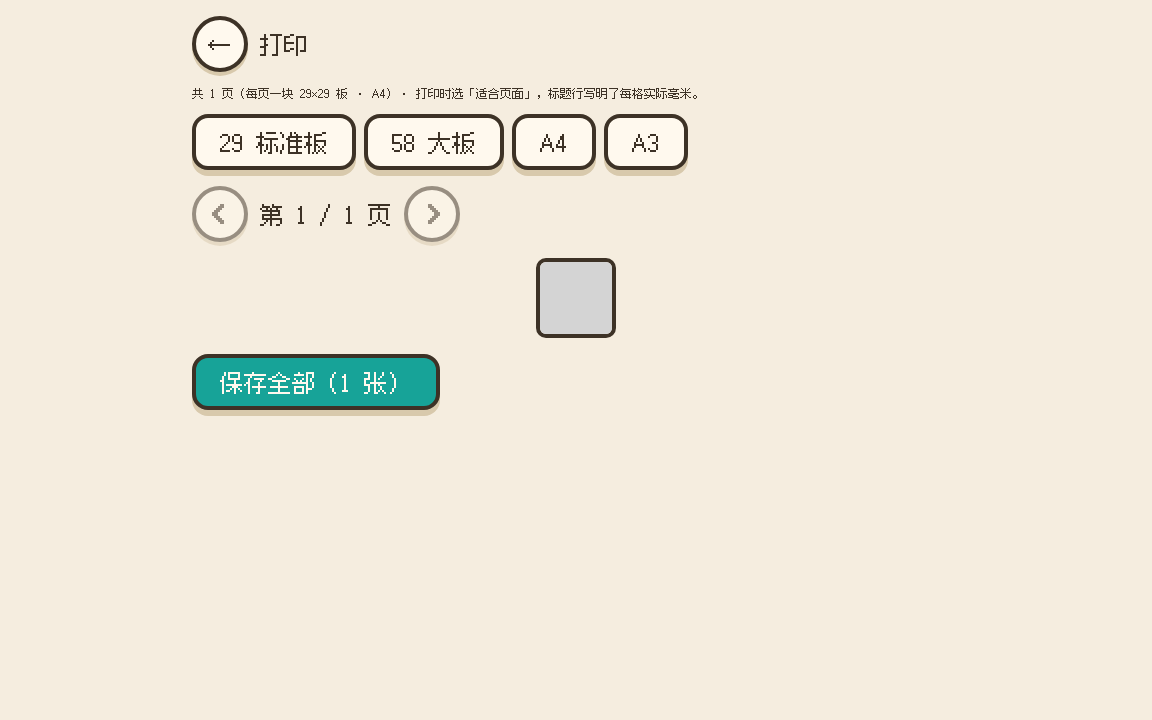
Test: 保存经能力层落盘（规格 §5.4.3 / §9.2-2 —— G4 闸门的行为面） › 平台保存失败：如实报第几张失败与中文原因，不静默、也不产生预览 URL
// 挂载期只有预览会建 URL；保存失败**不许**再建（一份没落盘的字节不该有 object URL）
Step 1. Click the button with test id "print-save-all" → (316, 382), box [192,354,440,410]
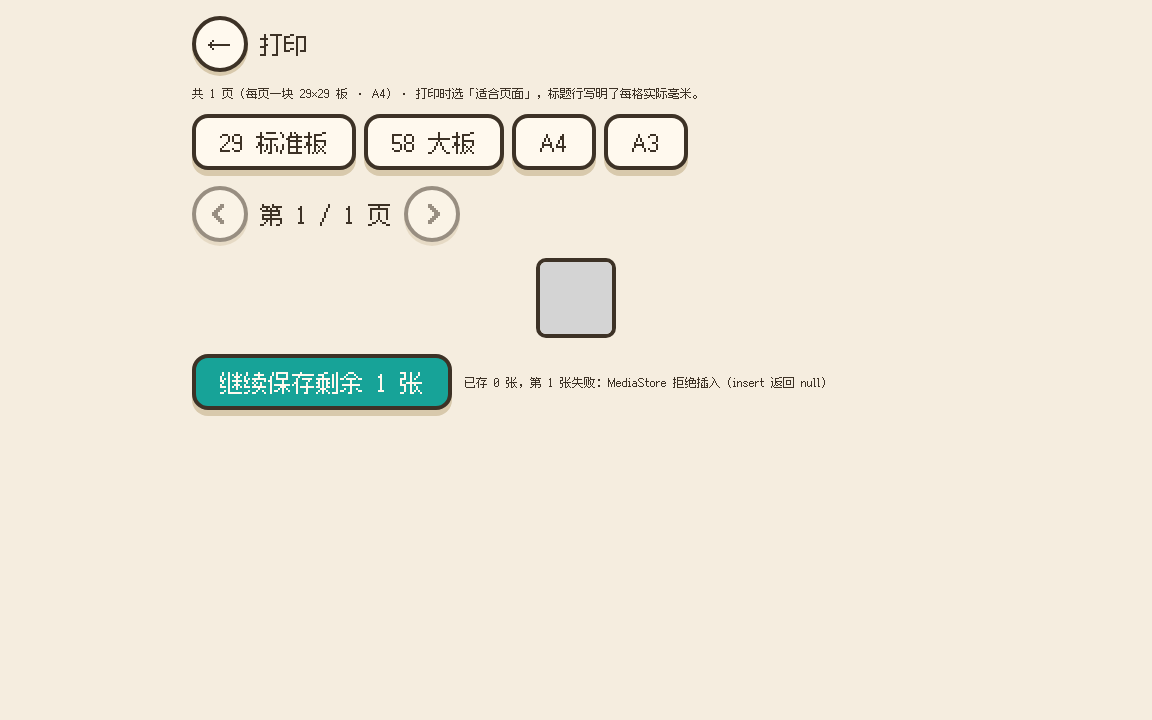
Result: the text with test id "print-save-state" shows "第 1 张失败：MediaStore 拒绝插入（insert 返回 null）" at [464,374,833,390]
Result: the text with test id "print-save-state" shows "已存 0 张" at [464,374,833,390]
Result: the button with test id "print-save-all" reads "继续保存剩余 1 张" at [192,354,452,410]
